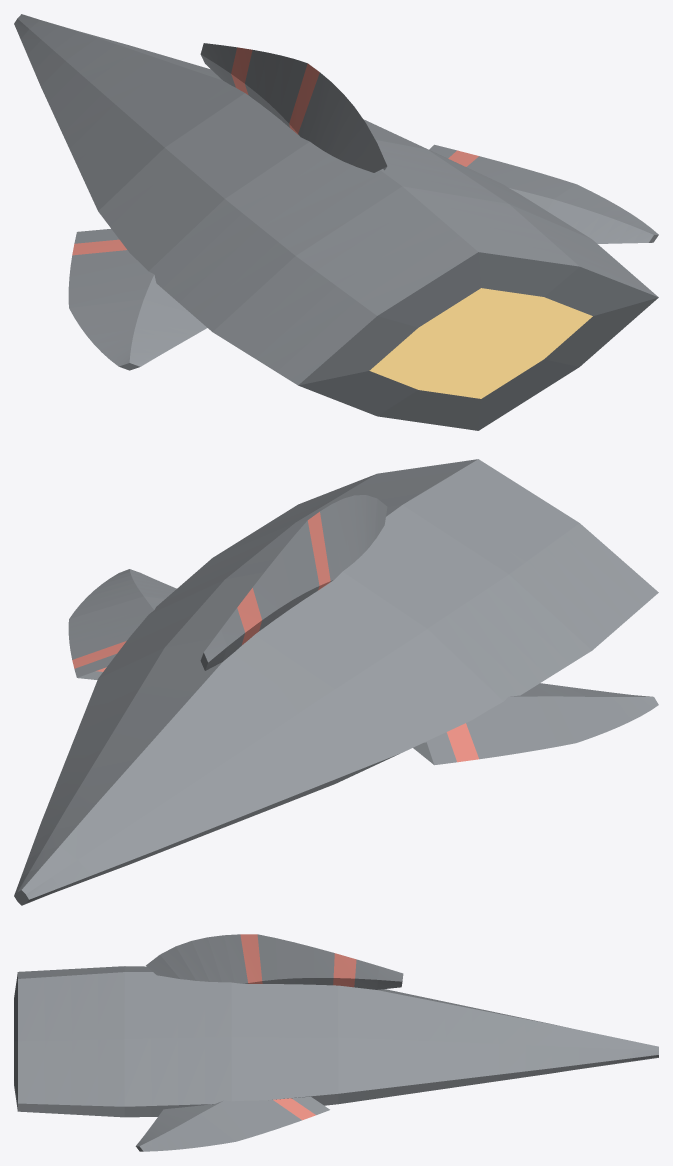
The model's file is kethran_ca.glb.
3 renders of one model, top to bottom at view 1: azimuth 30°, elevation 25°; view 2: azimuth 150°, elevation 25°; view 3: azimuth 270°, elevation 25°, orthographic. The views are drawn at different scales.
Visible parts, largest first — view 1: hull_mesh, limb_0_mesh, limb_1_mesh, limb_0_port_mesh; view 2: hull_mesh, limb_1_mesh, limb_0_mesh, limb_0_port_mesh; view 3: hull_mesh, limb_1_mesh, limb_0_port_mesh.
Part boxes in pixels (x1,y1,x2,y2): hull_mesh: (14,14,658,430); limb_0_mesh: (68,229,206,370); limb_1_mesh: (200,43,387,172); limb_0_port_mesh: (429,144,658,243); hull_mesh: (14,459,658,905); limb_1_mesh: (200,495,387,670); limb_0_mesh: (413,683,658,765); limb_0_port_mesh: (68,569,176,679); hull_mesh: (14,966,658,1117); limb_1_mesh: (146,934,403,989); limb_0_port_mesh: (135,1096,329,1151).
Size of the model in its own units: 95.7 by 42.7 by 141.
